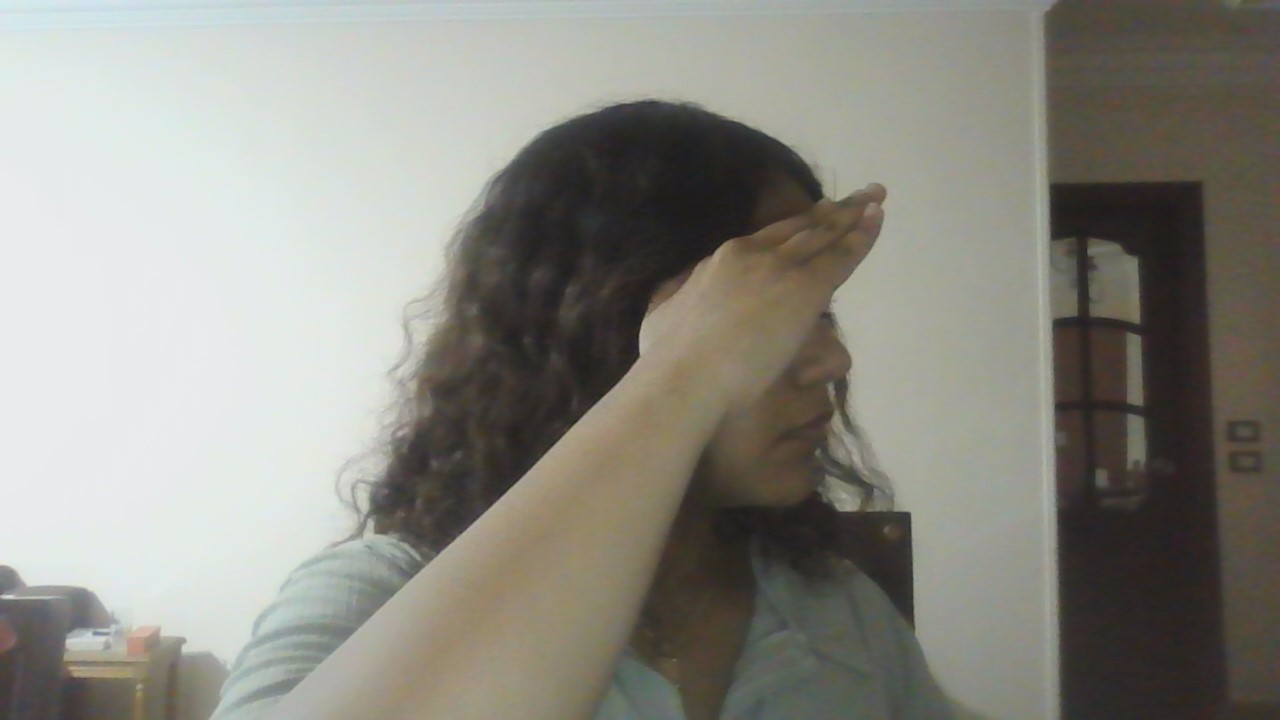hello: (616, 104, 942, 456)
